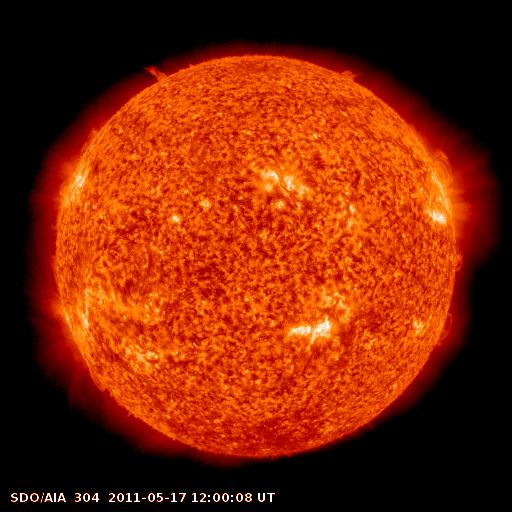prominence: (138, 55, 181, 92), (336, 56, 370, 92), (447, 246, 472, 278)
